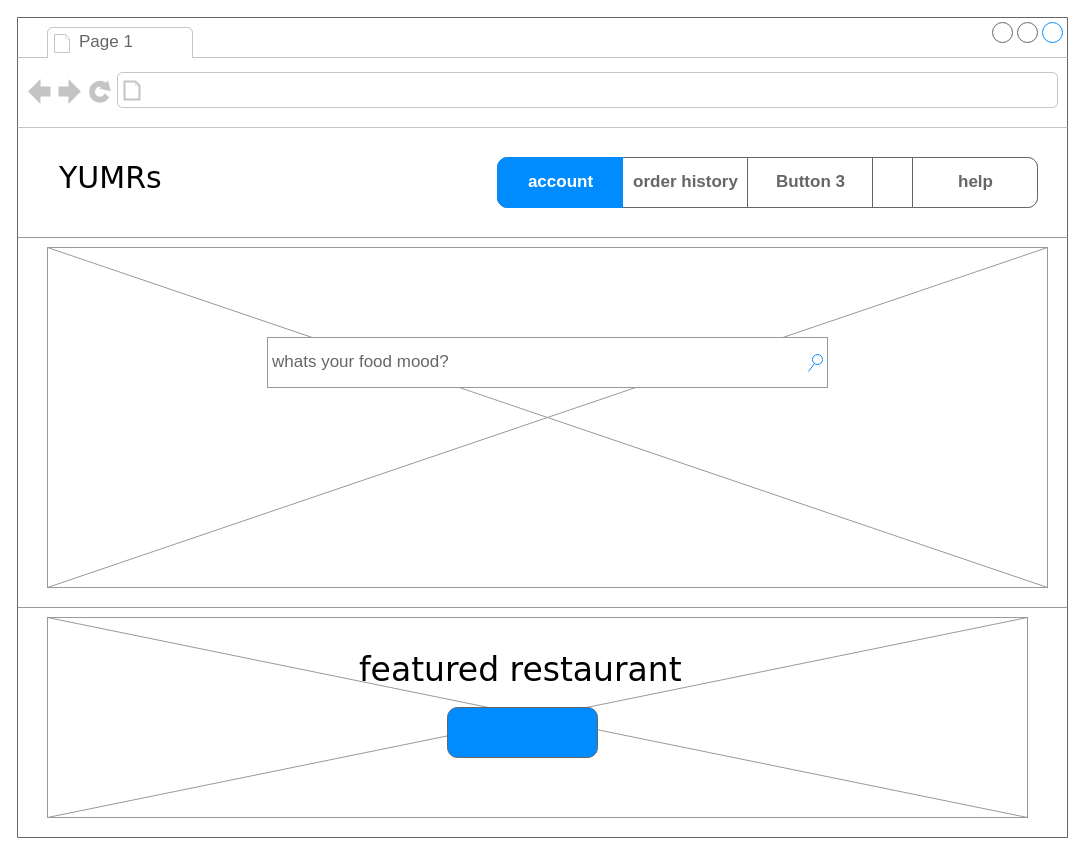
The diagram is 1085 pixels wide and 855 high, and some of its shapes have lost their labels. Each missing label, with the centre of its shape:
"https://www.default.com" belongs at point 272,90.
"see more" belongs at point 522,732.
